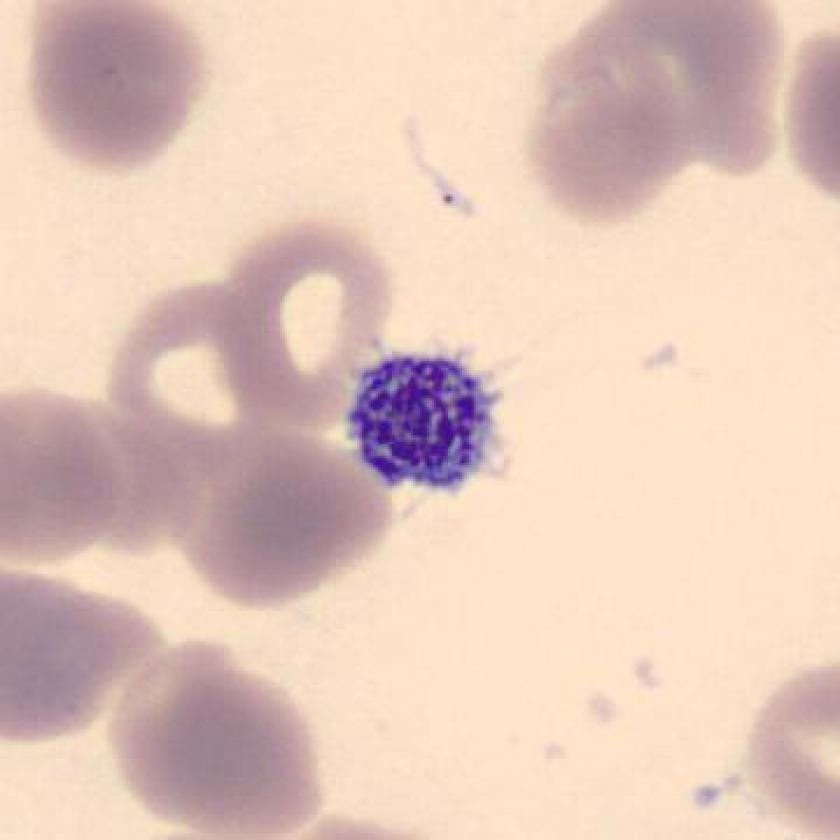platelets: (342, 344, 505, 499)
